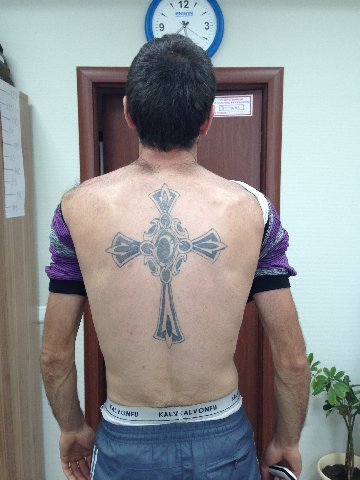tatu9_krest: (105, 179, 230, 350)
